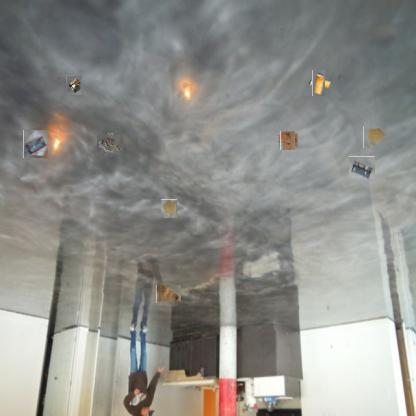dirty: (23, 130, 48, 158), (349, 156, 375, 181), (99, 133, 121, 155), (156, 286, 181, 304), (309, 74, 329, 93), (66, 75, 82, 95), (279, 132, 296, 149)
liquid: (363, 126, 386, 148), (161, 200, 178, 218)
